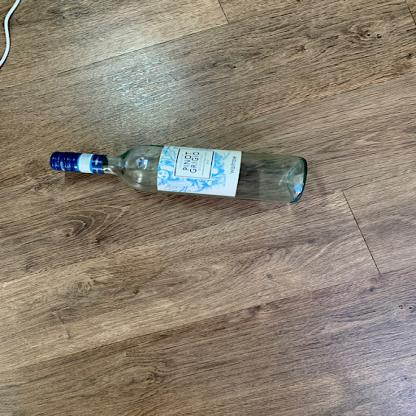trash: (46, 136, 318, 209)
